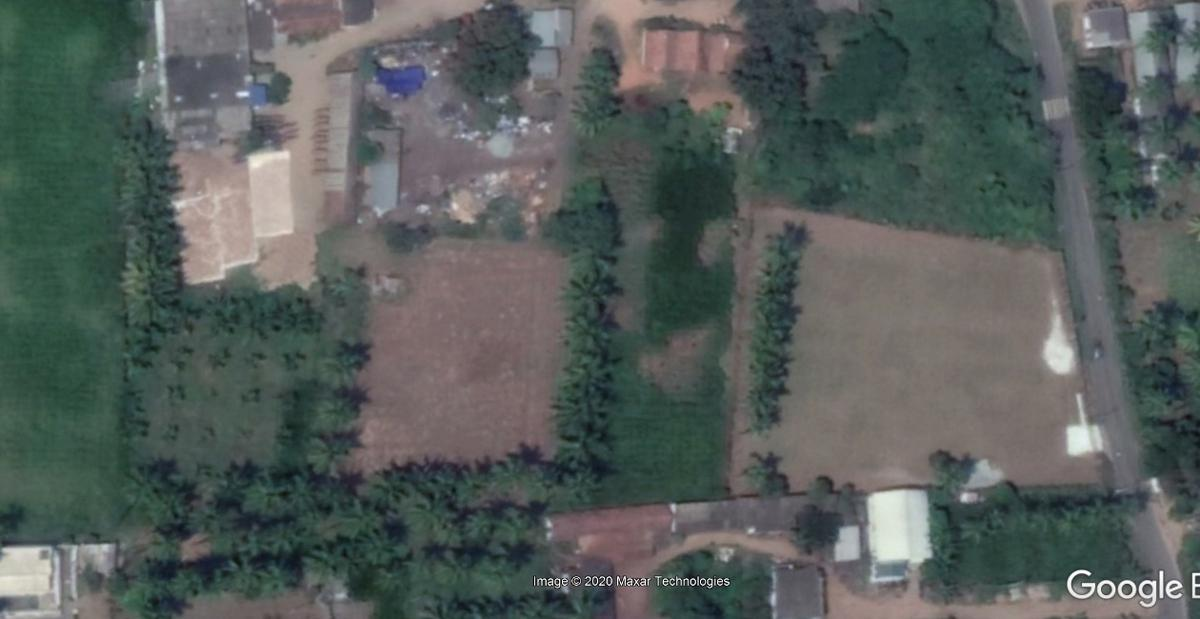coconut: (555, 264, 623, 317), (553, 424, 616, 470), (557, 307, 615, 354), (121, 223, 180, 268), (568, 85, 615, 139), (552, 384, 607, 429), (117, 167, 169, 213), (1126, 300, 1170, 354), (556, 459, 604, 507), (117, 125, 170, 167), (244, 470, 289, 519), (566, 353, 617, 393), (262, 520, 312, 560), (565, 232, 619, 269), (118, 271, 179, 303), (357, 530, 403, 571), (121, 465, 162, 509), (426, 547, 467, 591), (151, 490, 193, 532), (753, 249, 795, 291), (349, 501, 397, 537), (421, 496, 461, 539), (750, 308, 793, 348), (224, 554, 262, 598), (366, 466, 412, 502), (310, 432, 352, 470), (329, 332, 367, 371), (120, 562, 160, 599), (1082, 490, 1121, 527), (497, 450, 539, 484), (207, 302, 243, 341), (272, 296, 311, 332), (203, 498, 242, 534), (170, 561, 205, 599), (750, 349, 789, 382), (520, 591, 565, 619), (419, 461, 461, 491), (313, 540, 351, 573), (416, 591, 457, 619), (321, 390, 357, 421), (960, 511, 993, 543), (748, 406, 783, 434), (469, 507, 501, 536)
